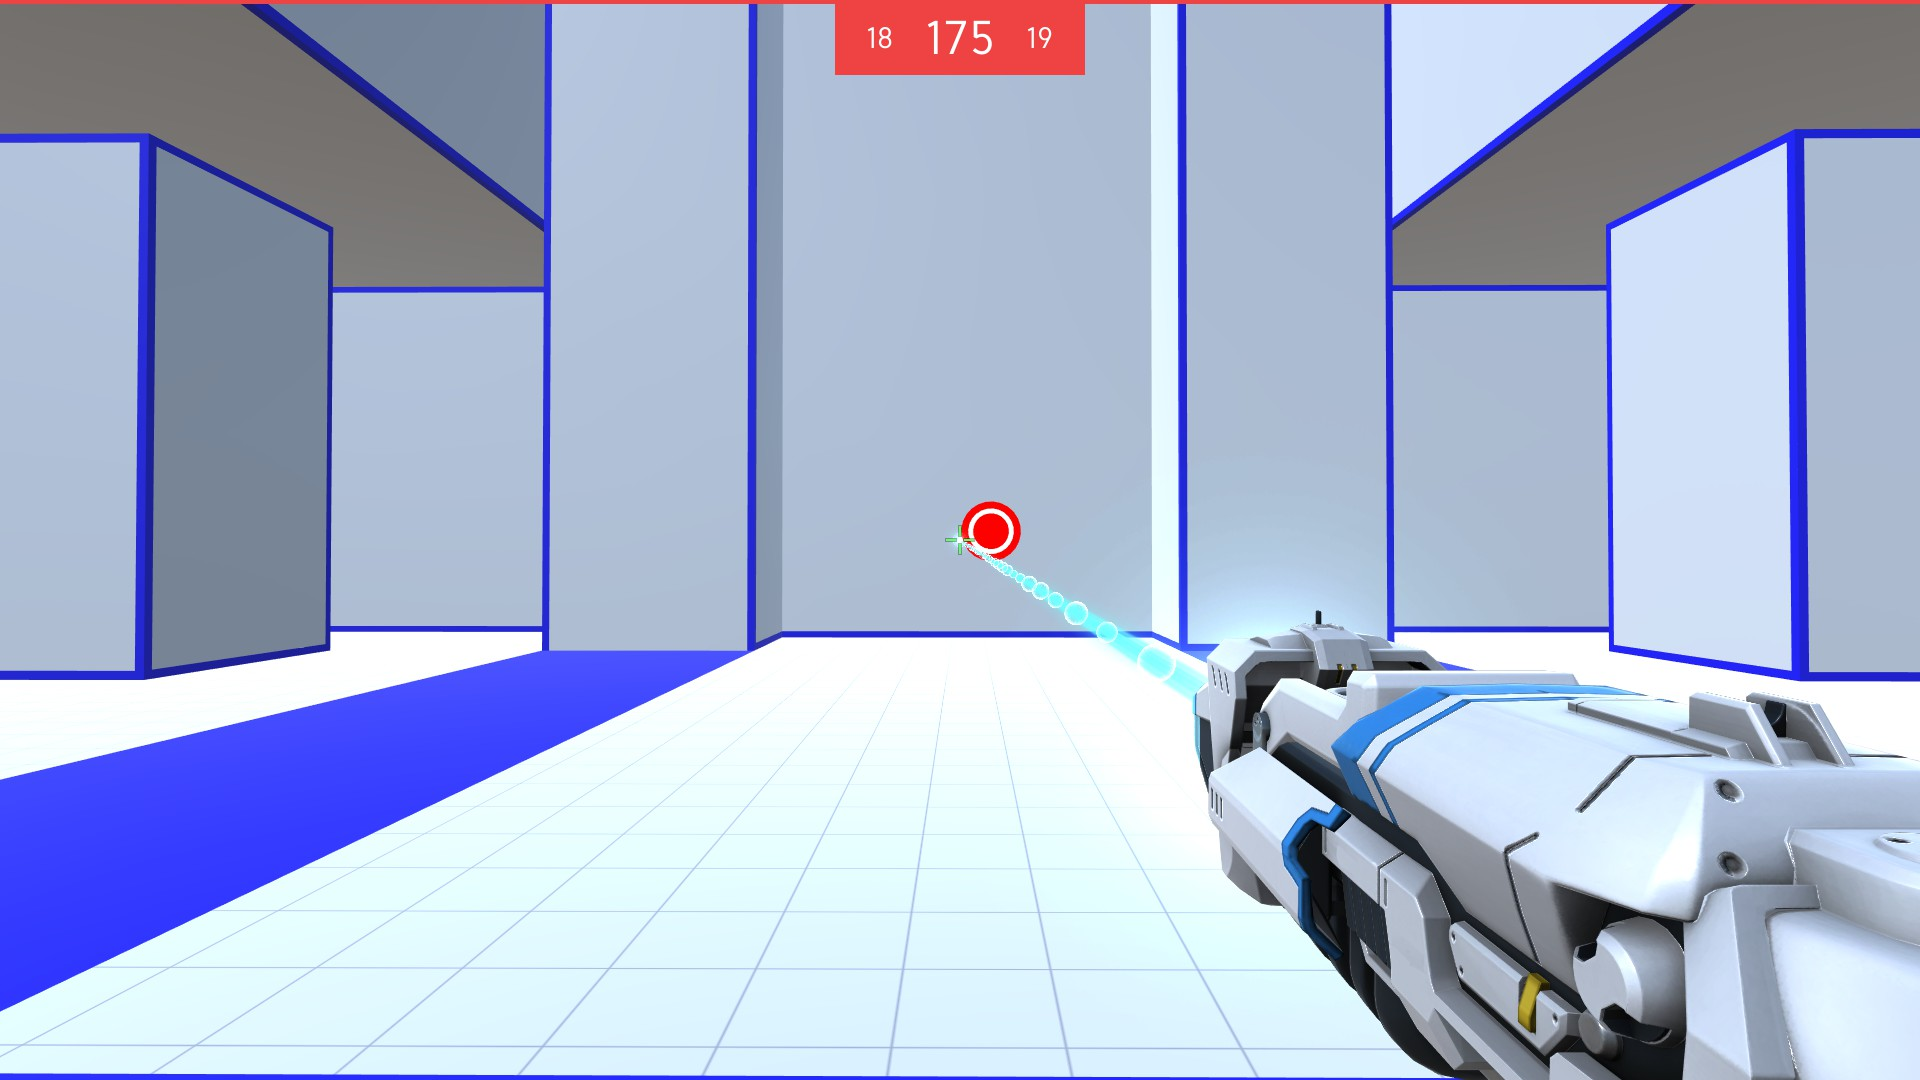target: (957, 498, 1026, 563)
